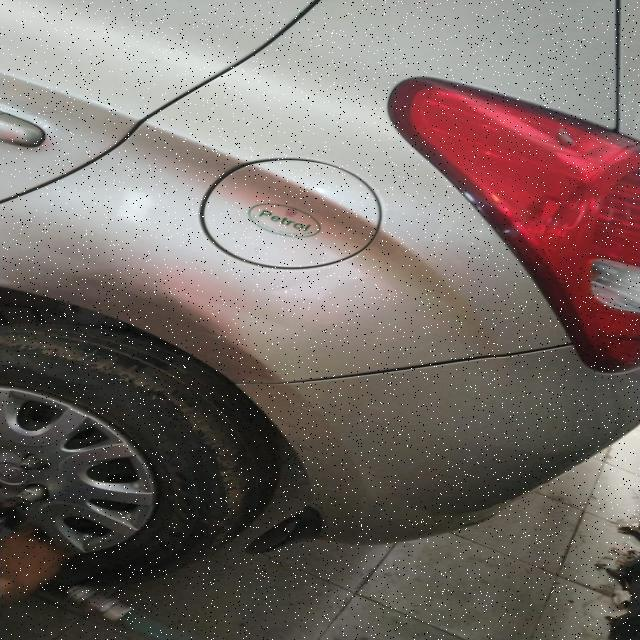quaterpanel-dent: (10, 117, 592, 379)
